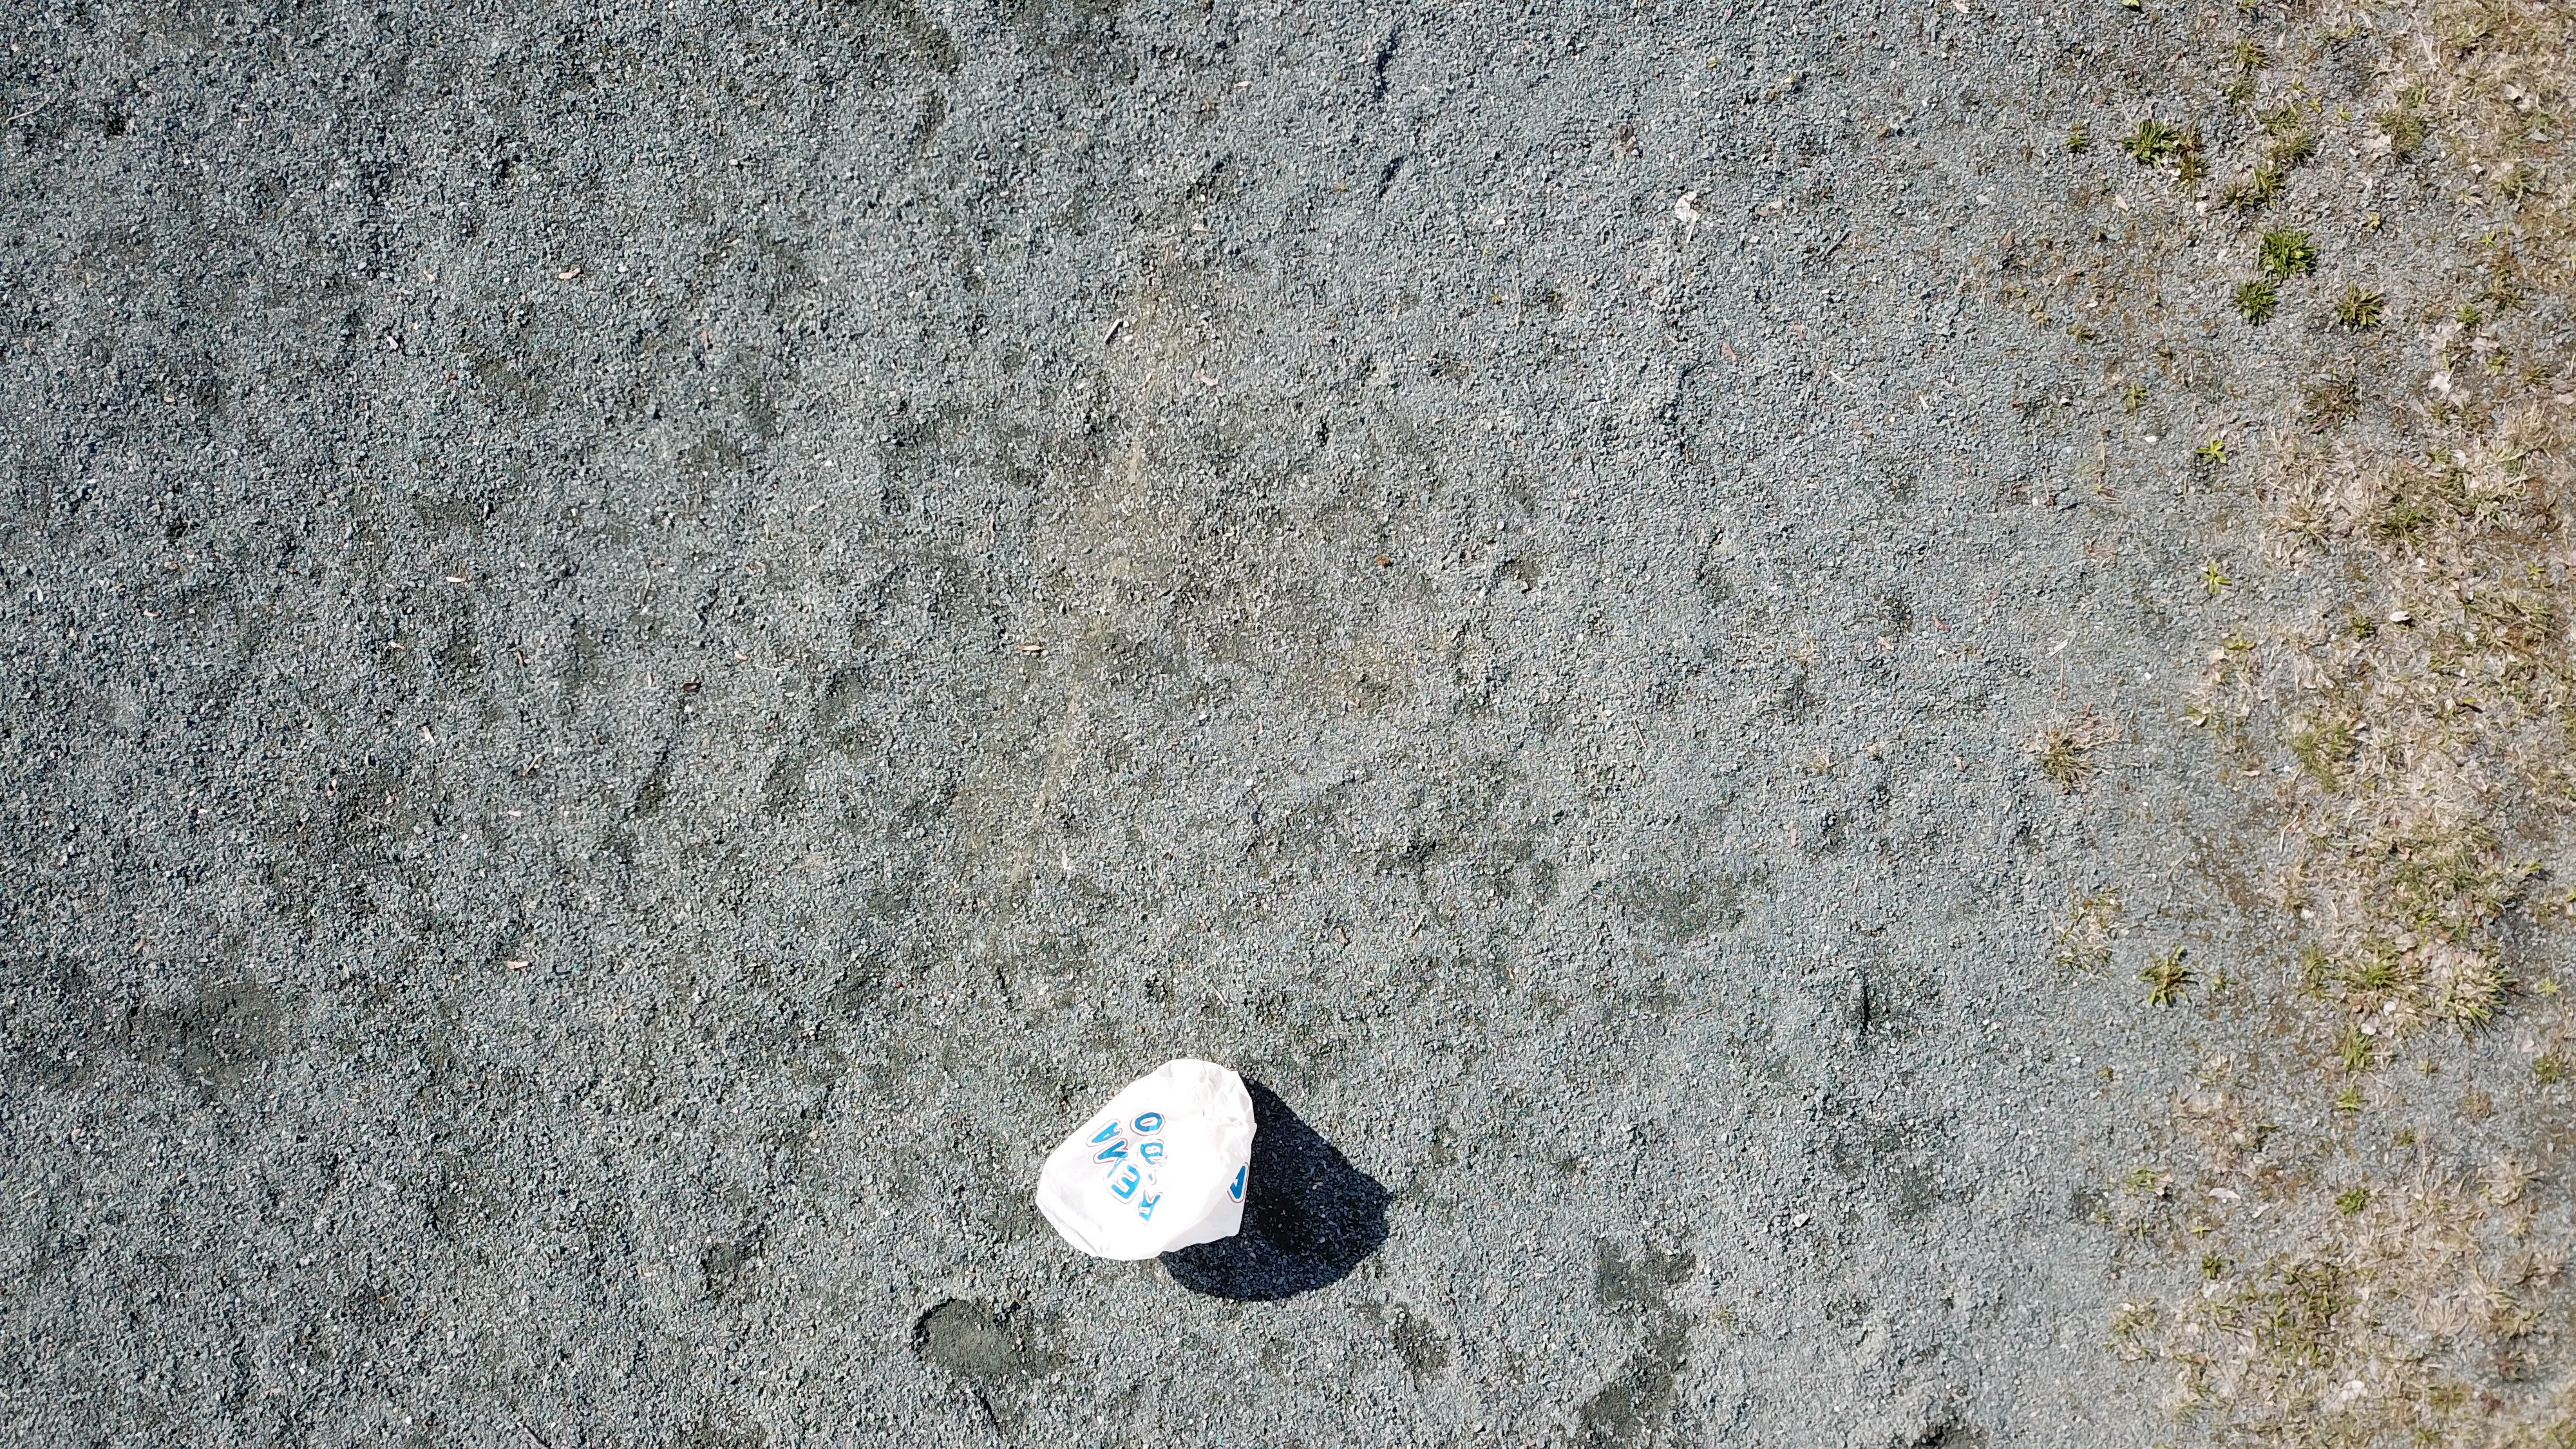Plastic: (1033, 1056, 1258, 1269)
